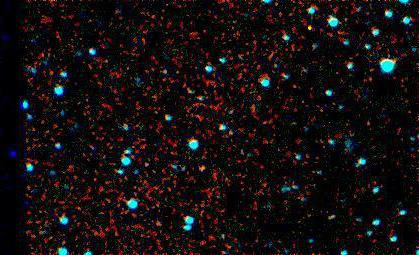star: (299, 10, 329, 40)
